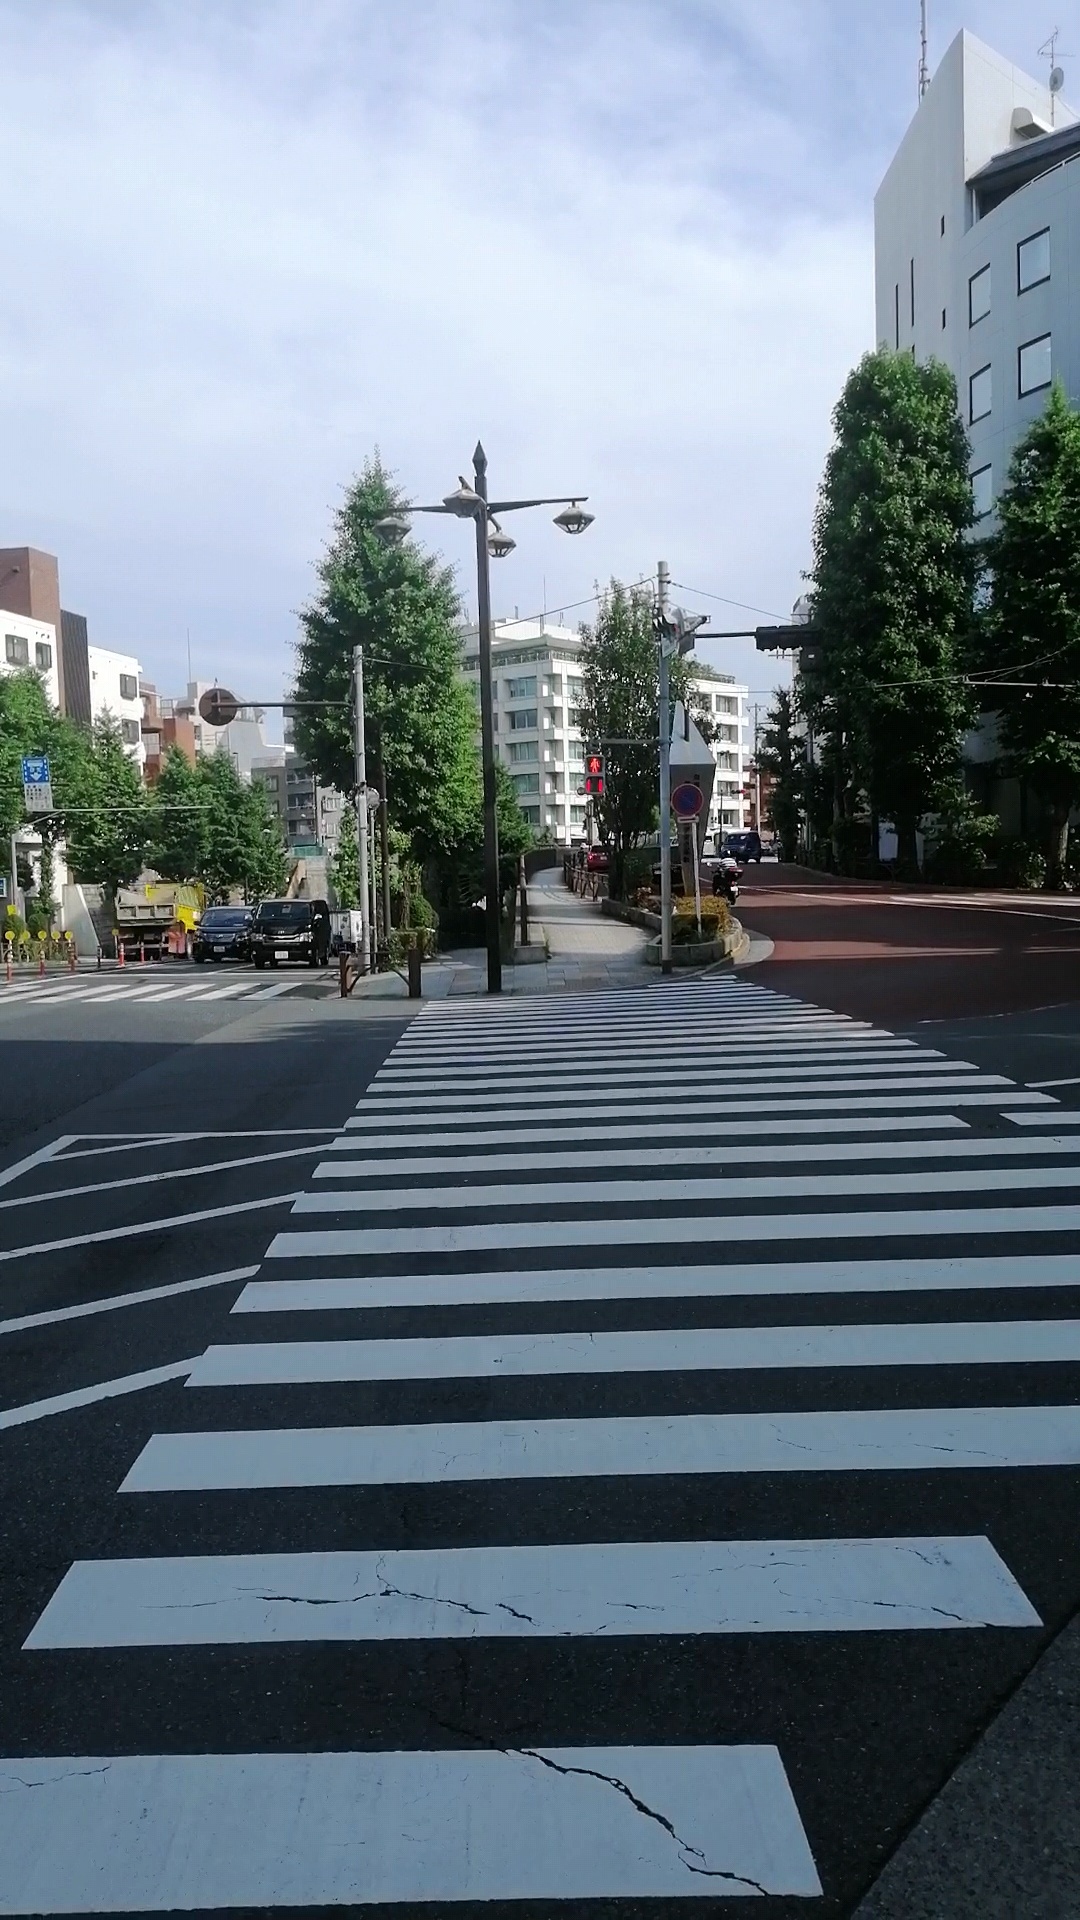red: (584, 754, 604, 796)
